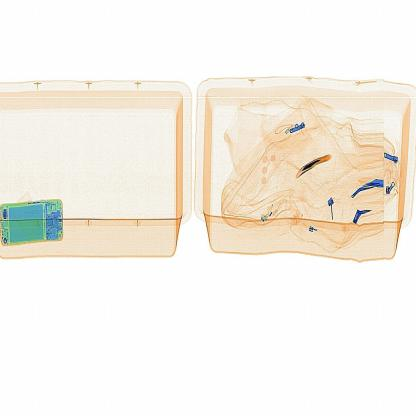wrench: (277, 148, 337, 184)
